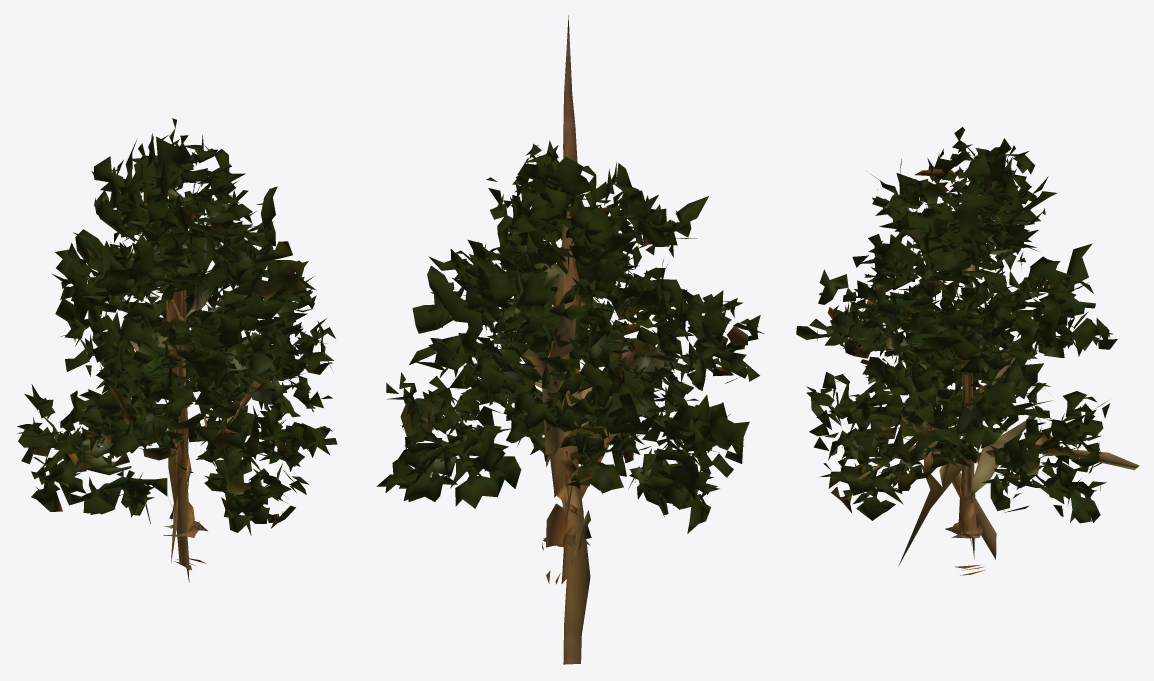
Rendered from tree_08_columnar_green.glb.
3 renders of one model, left to right at view 1: azimuth 30°, elevation 25°; view 2: azimuth 150°, elevation 25°; view 3: azimuth 270°, elevation 25°, orthographic. The views are drawn at different scales.
Visible parts, largest first — view 1: geometry_0; view 2: geometry_0; view 3: geometry_0.
Boxes of the visible parts, x1,y1,x2,y2 form: geometry_0: [17, 118, 337, 582]; geometry_0: [376, 15, 764, 664]; geometry_0: [796, 127, 1139, 575].
Size of the model in its own units: 0.5227 by 1 by 0.4901.
1 material, 1 textured.
